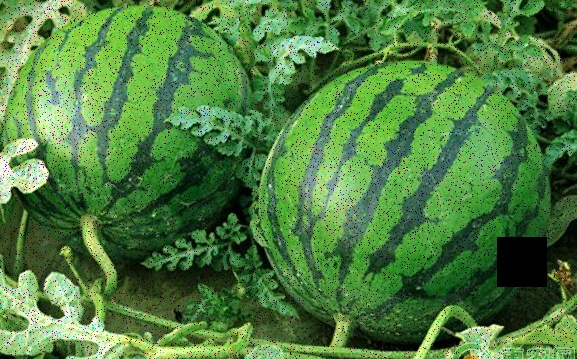watermelon: (267, 58, 553, 327), (2, 4, 250, 257)
